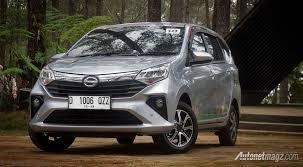plate: (69, 96, 110, 109)
